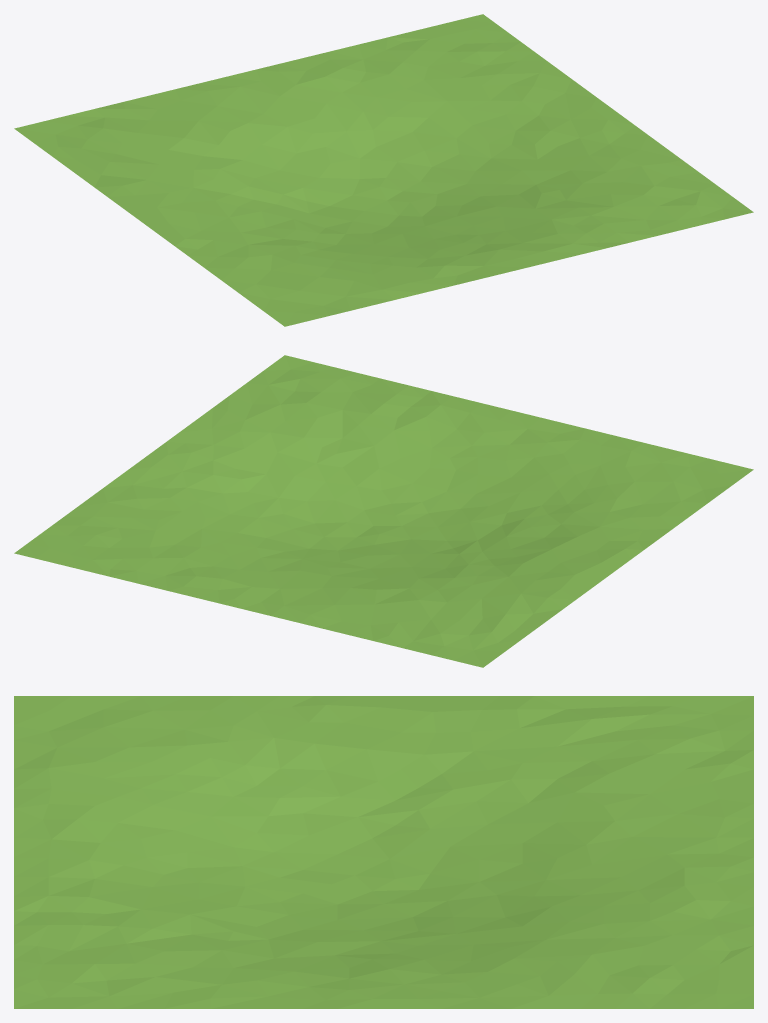
Rendered from MT_Terrain_M_b_01.fbx.
The picture shows the model from 3 angles, top to bottom: view 1: azimuth 30°, elevation 25°; view 2: azimuth 150°, elevation 25°; view 3: azimuth 270°, elevation 25°; orthographic projection. The views are drawn at different scales.
Visible parts, largest first — view 1: MT_Terrain_M_b_01; view 2: MT_Terrain_M_b_01; view 3: MT_Terrain_M_b_01.
Part boxes in pixels (x1,y1,x2,y2): MT_Terrain_M_b_01: (14,14,753,326); MT_Terrain_M_b_01: (14,355,753,667); MT_Terrain_M_b_01: (14,696,753,1008).
Size of the model in its own units: 5000 by 228 by 5000.
